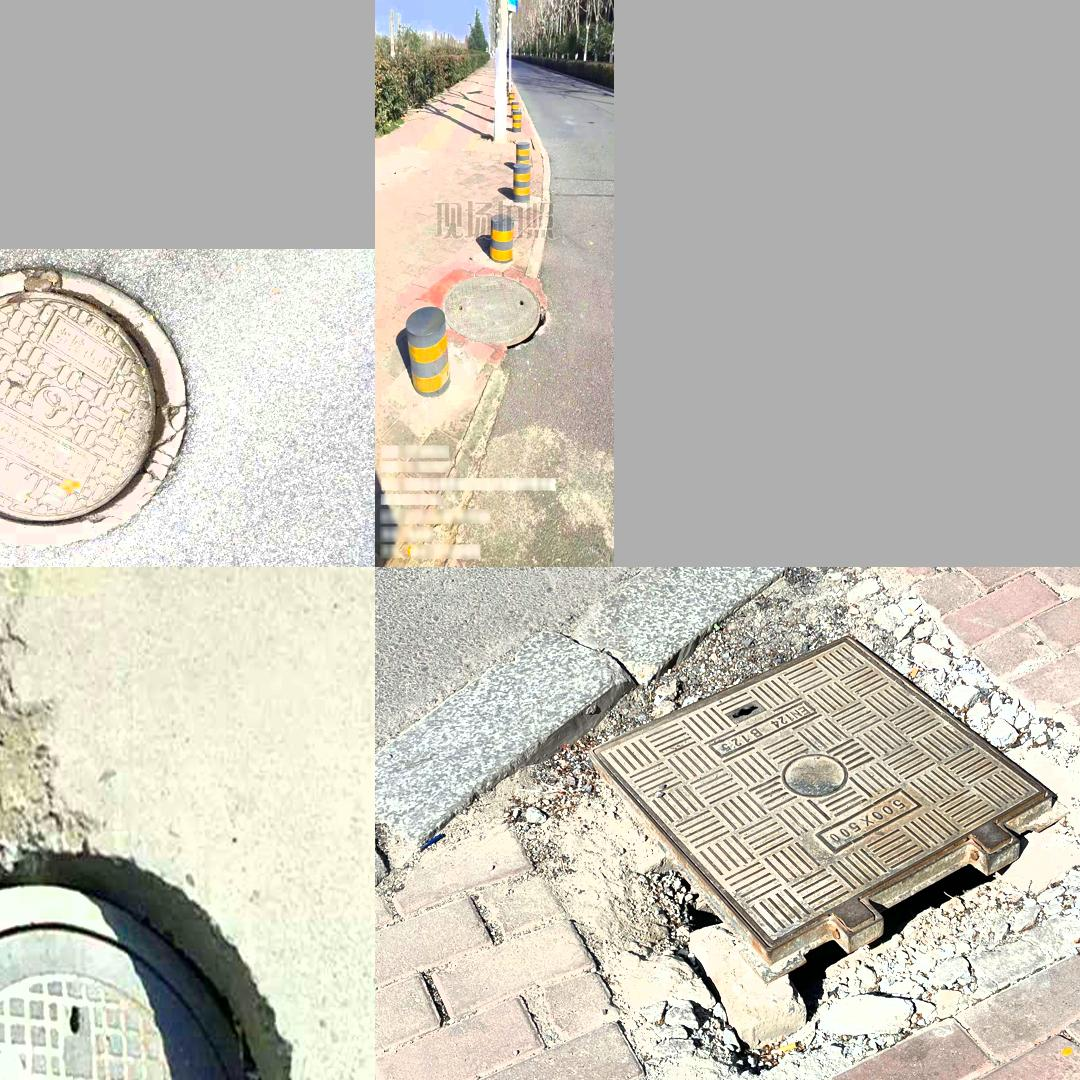circle: (505, 631, 1080, 1071), (0, 645, 296, 1080), (0, 266, 227, 544), (440, 269, 548, 354)
